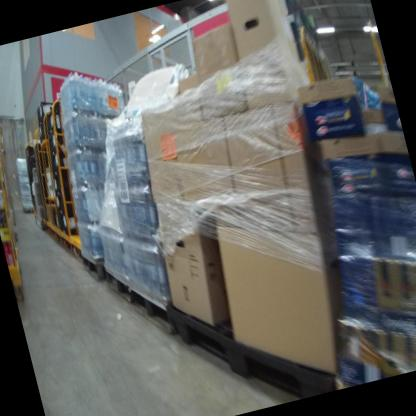pallet: (160, 262, 339, 416), (122, 273, 186, 353), (99, 256, 133, 307), (79, 248, 106, 286)
